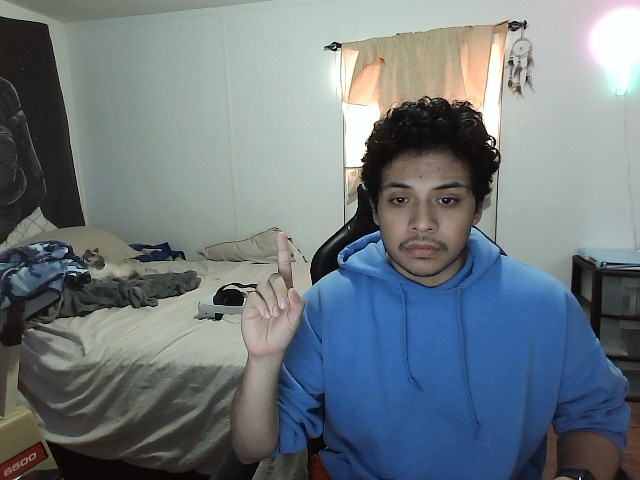D: (229, 227, 312, 360)
